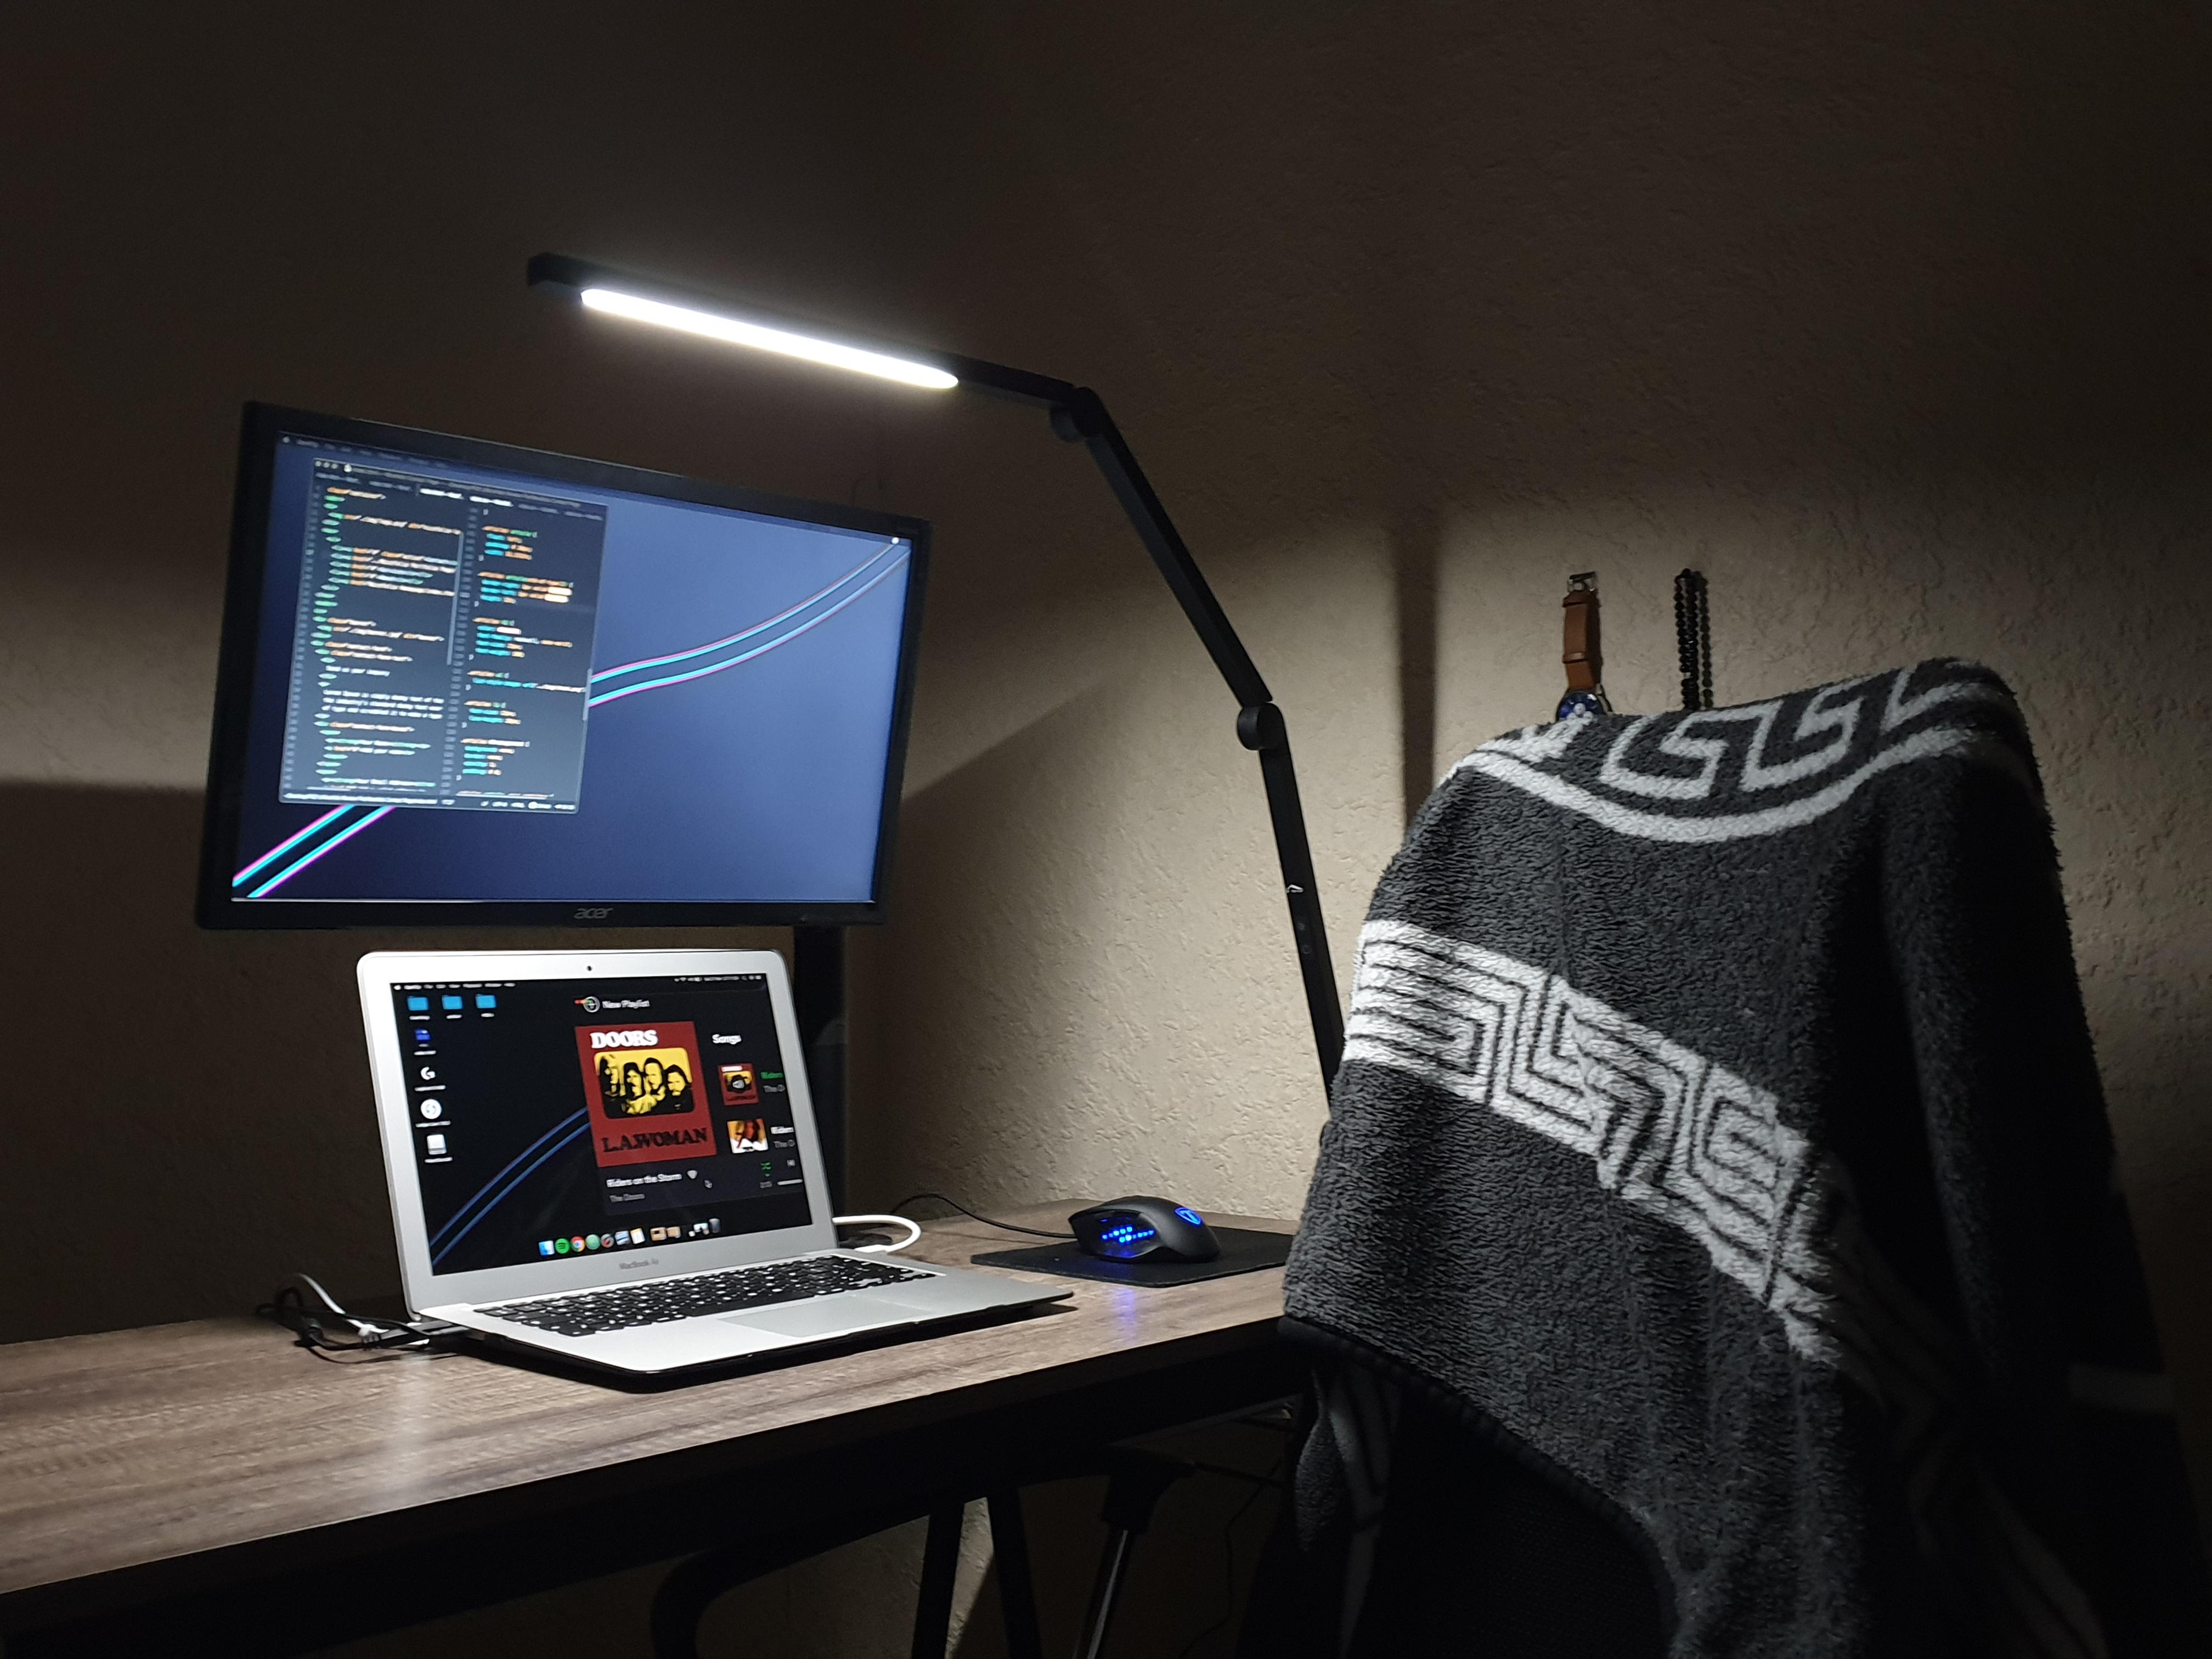Chair (Generic): (1249, 657, 2212, 1659)
Decoration (Watch): (1498, 572, 1662, 748)
Desk (Generic): (0, 1175, 1400, 1659)
Lamp (Floor): (529, 213, 1379, 1044)
Laptop (OSX): (362, 939, 1085, 1387)
Monitor (Landscape): (214, 415, 902, 932)
Mouse (Gaming): (1066, 1176, 1237, 1284)
Mousepad (Generic): (967, 1194, 1294, 1298)
